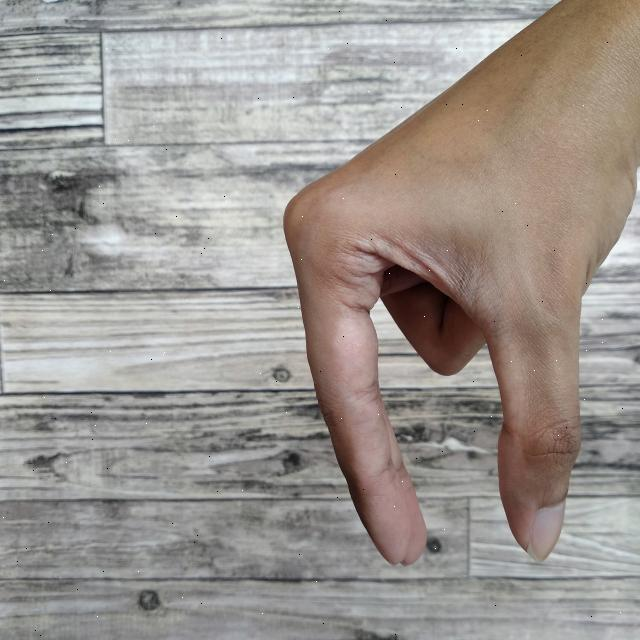Q: (272, 1, 640, 571)
